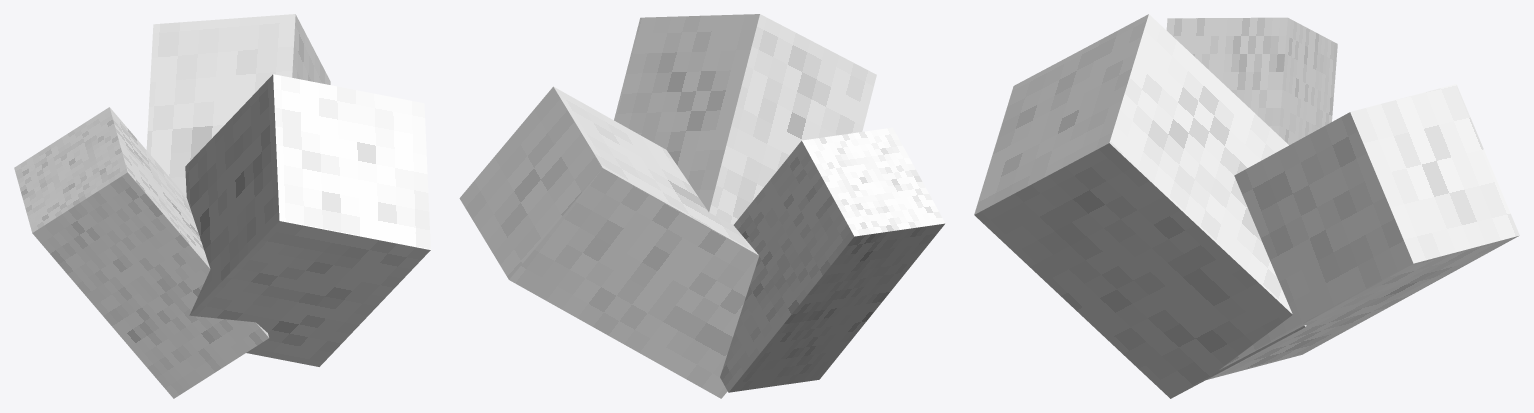
The model's file is obj_crystal_2_twist_3.obj.
3 views of the same model, side by side, from view 1: azimuth 30°, elevation 25°; view 2: azimuth 150°, elevation 25°; view 3: azimuth 270°, elevation 25° (orthographic). The views are drawn at different scales.
Parts seen in each view (by area): view 1: obj_crystal; view 2: obj_crystal; view 3: obj_crystal.
Boxes of the visible parts, x1=… form: obj_crystal: x1=14, y1=14, x2=430, y2=398; obj_crystal: x1=459, y1=14, x2=945, y2=398; obj_crystal: x1=974, y1=14, x2=1519, y2=398.
Size of the model in its own units: 0.6462 by 0.5143 by 0.7024.
